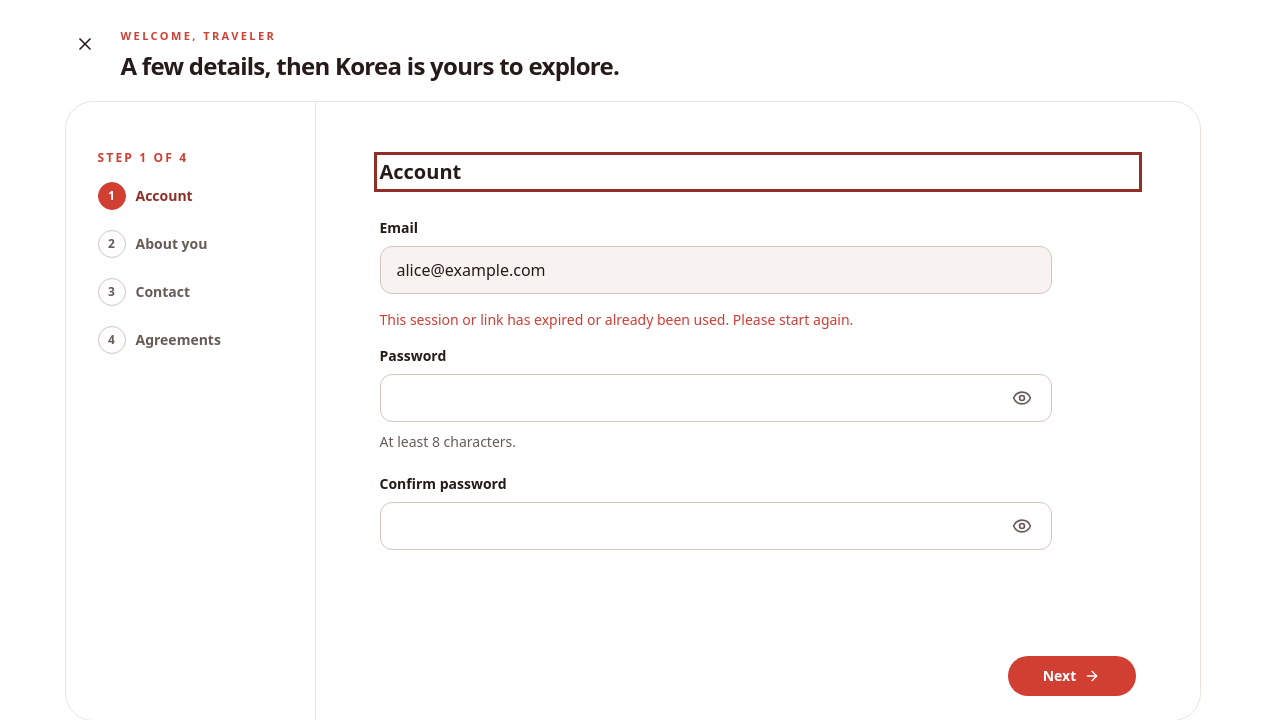
Scenario: OnboardingForm › blocks expired email signup and offers re-verification
Click the button "Next".
click(1072, 676)  # box [1008,656,1136,696]
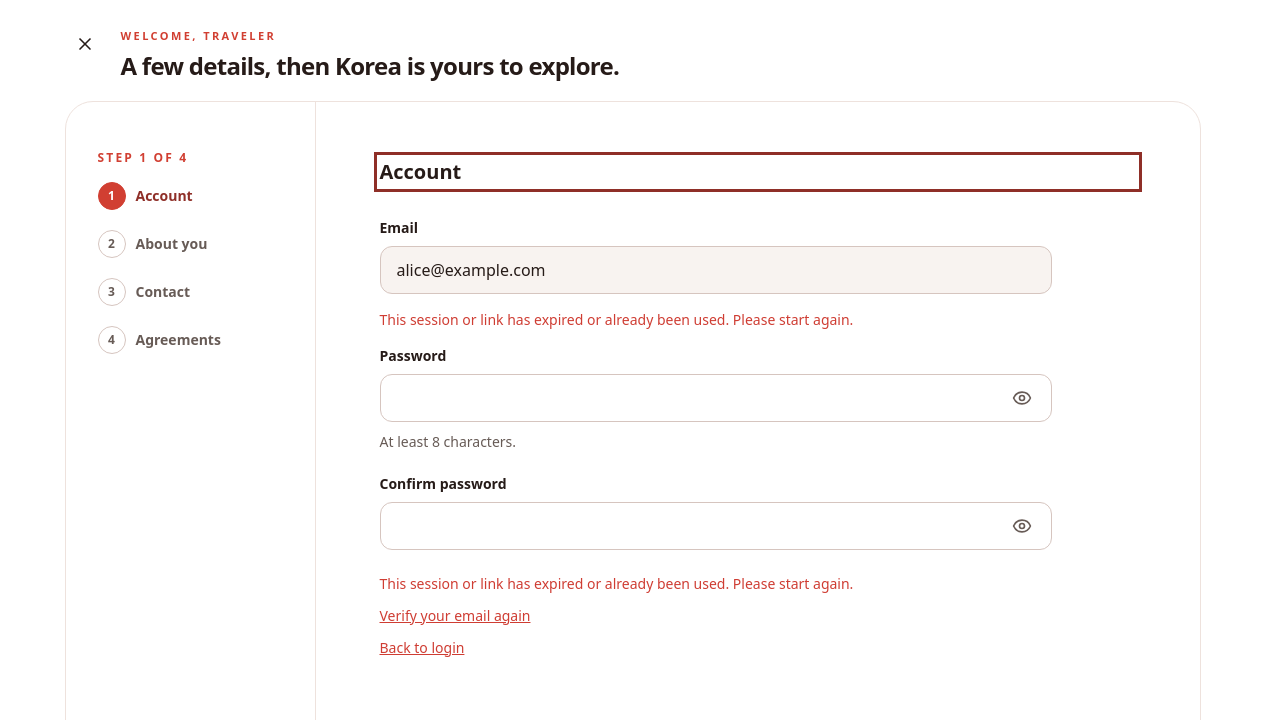
Result: the message shows "expired" at [380,574,853,592]
